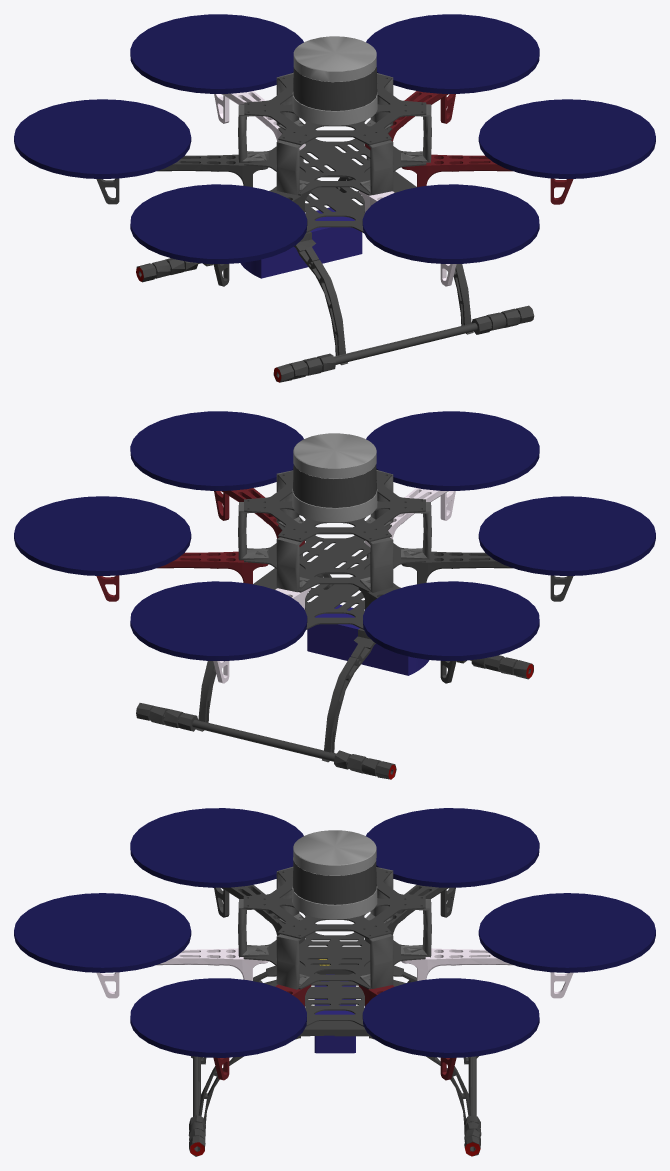
The model's file is tyrion_light.dae.
3 views of the same model, one above another, from view 1: azimuth 30°, elevation 25°; view 2: azimuth 150°, elevation 25°; view 3: azimuth 270°, elevation 25° (orthographic).
Visible parts, largest first — view 1: Foam; view 2: Foam; view 3: Foam.
Part boxes in pixels (<box>): Foam: <box>14,14,655,382</box>; Foam: <box>14,411,655,779</box>; Foam: <box>14,808,655,1156</box>.
Size of the model in its own units: 70.04 by 77.6 by 33.15.
